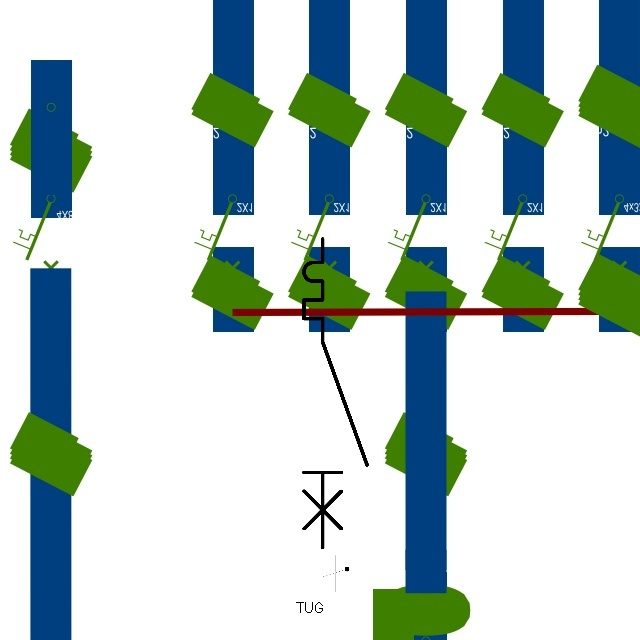interruptor_termomagnetico: (296, 231, 375, 555)
